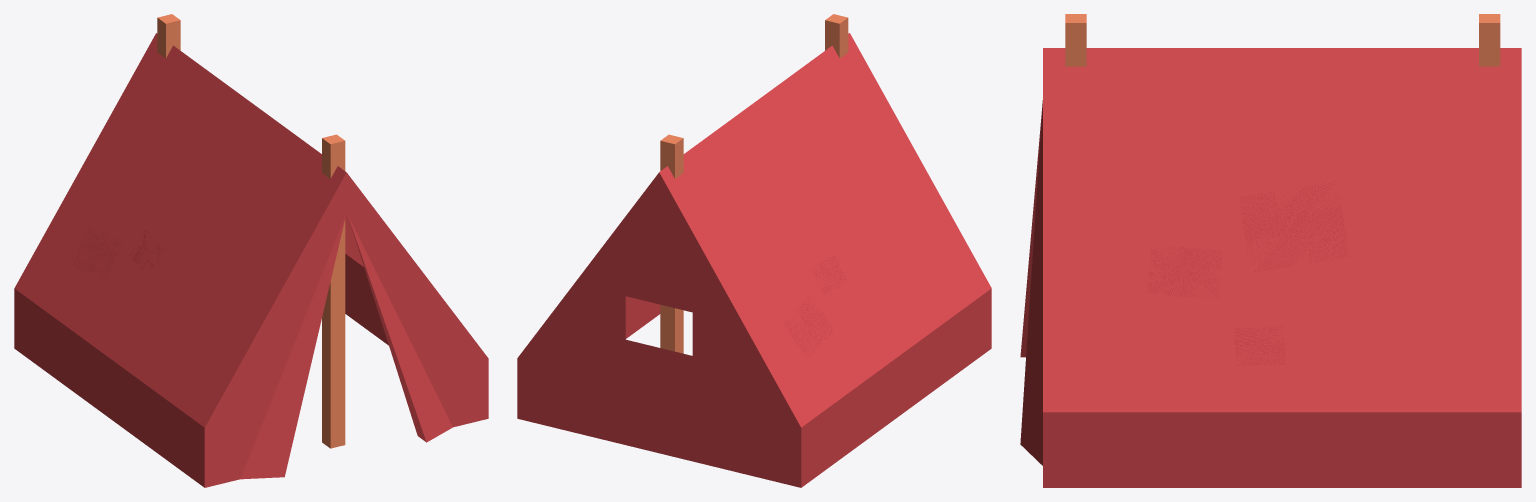
The model's file is tent_small.obj.
3 renders of one model, left to right at view 1: azimuth 30°, elevation 25°; view 2: azimuth 150°, elevation 25°; view 3: azimuth 270°, elevation 25°, orthographic. The views are drawn at different scales.
Bounding box in the file's own units: 0.5476 × 0.5611 × 0.6664.
